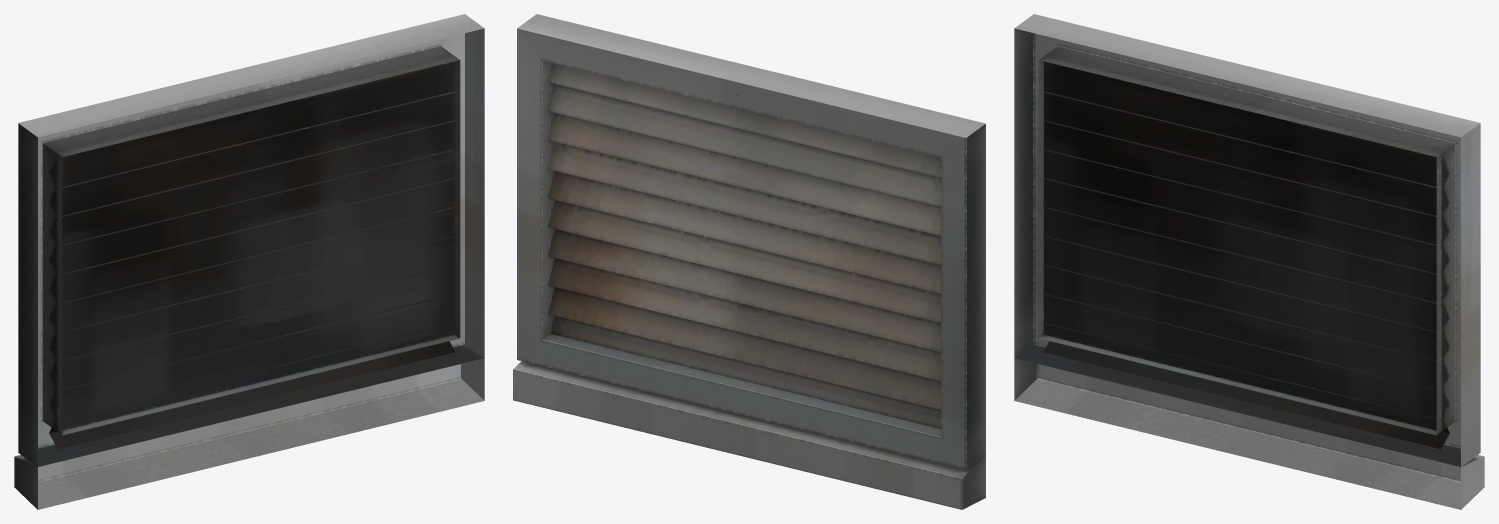
The model's file is office_window_vent.glb.
3 renders of one model, left to right at view 1: azimuth 30°, elevation 25°; view 2: azimuth 150°, elevation 25°; view 3: azimuth 330°, elevation 25°, orthographic.
Parts seen in each view (by area): view 1: office_window_vent; view 2: office_window_vent; view 3: office_window_vent.
Boxes of the visible parts, bbox=[...] form: office_window_vent: bbox=[14, 14, 484, 509]; office_window_vent: bbox=[513, 14, 985, 509]; office_window_vent: bbox=[1014, 14, 1484, 509].
Size of the model in its own units: 1.22 by 0.9715 by 0.1116.
1 material, 1 textured.
